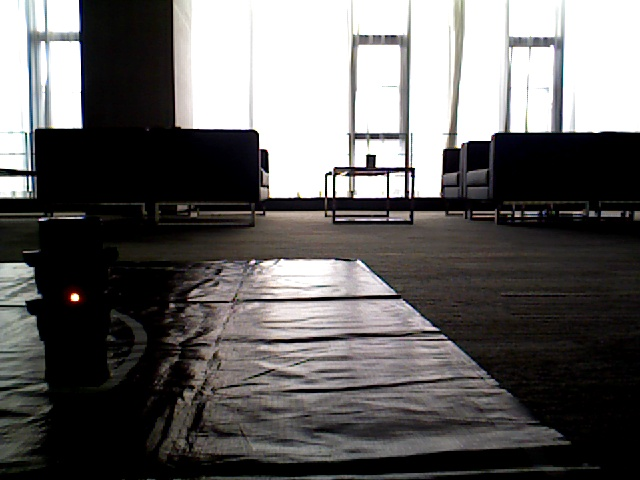yellow: (38, 222, 103, 358)
